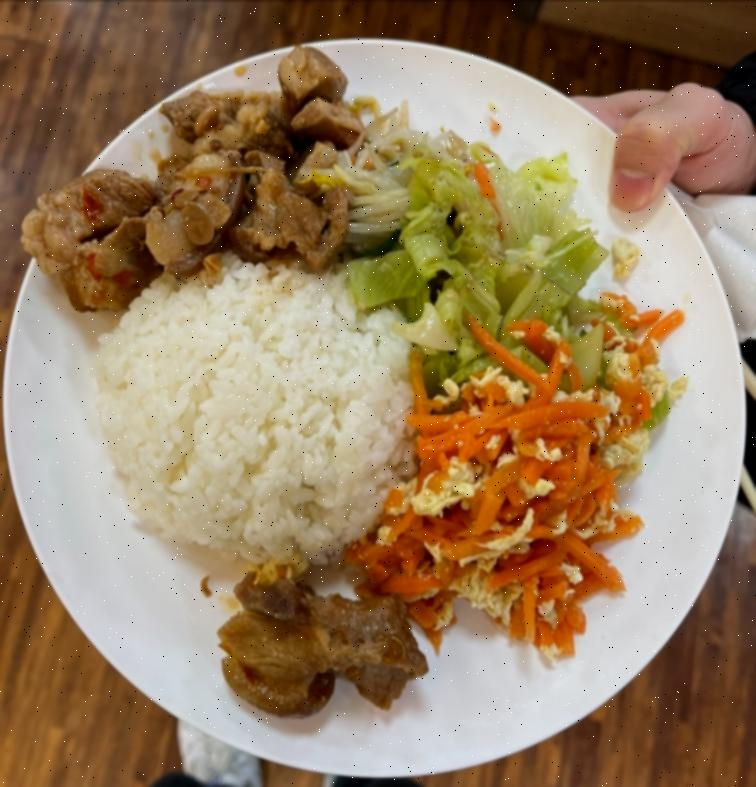braised pork: (18, 34, 364, 315), (206, 549, 430, 728)
plate: (5, 12, 755, 775)
side dish: (370, 368, 632, 656), (394, 120, 611, 372), (338, 108, 416, 244)
white rice: (100, 248, 408, 566)
